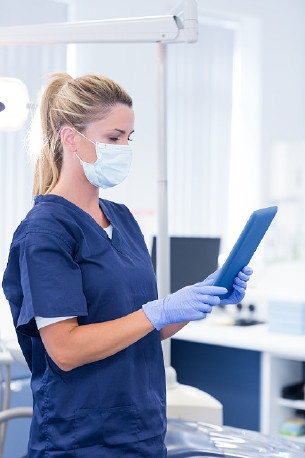Mask: (85, 123, 150, 189)
